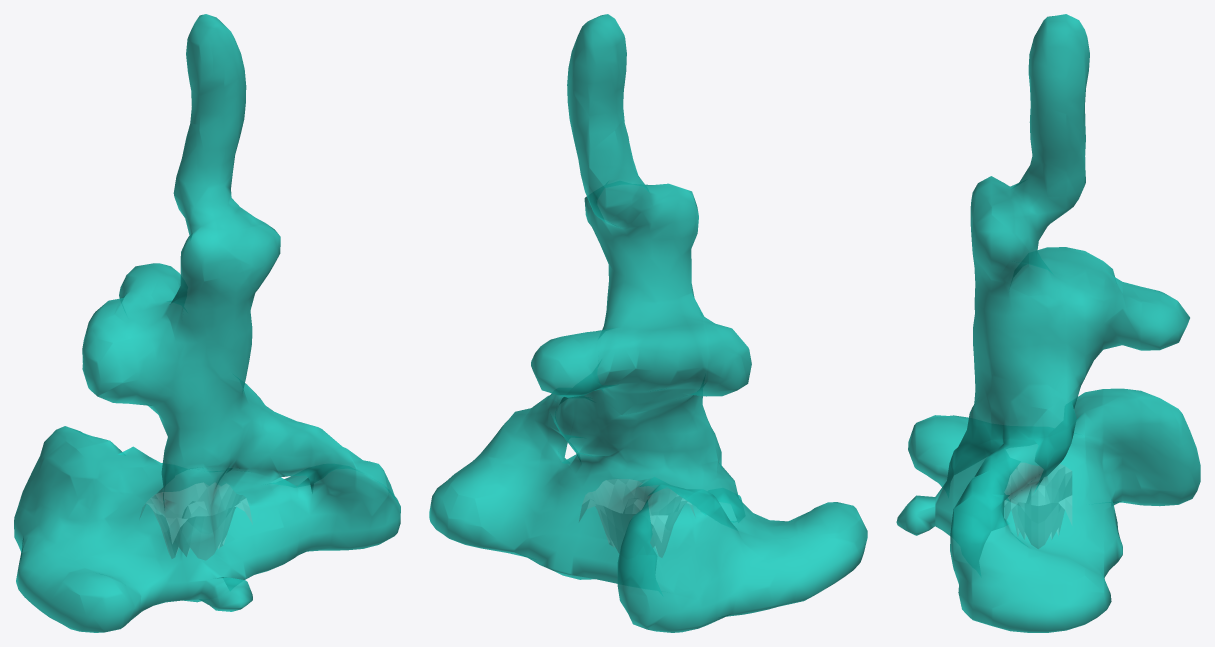
3 views of the same model, side by side, from view 1: azimuth 30°, elevation 25°; view 2: azimuth 150°, elevation 25°; view 3: azimuth 270°, elevation 25° (orthographic). The views are drawn at different scales.
Visible parts, largest first — view 1: Liquid_Domain, グリッド; view 2: Liquid_Domain, グリッド; view 3: Liquid_Domain, グリッド.
Part boxes in pixels (left/top/right/bottom): Liquid_Domain: left=14, top=14, right=400, bottom=632; グリッド: left=140, top=482, right=252, bottom=560; Liquid_Domain: left=429, top=14, right=867, bottom=632; グリッド: left=579, top=479, right=694, bottom=557; Liquid_Domain: left=896, top=14, right=1200, bottom=632; グリッド: left=1004, top=463, right=1071, bottom=548.
Bounding box in the file's own units: 1.93 × 2.66 × 1.34.
